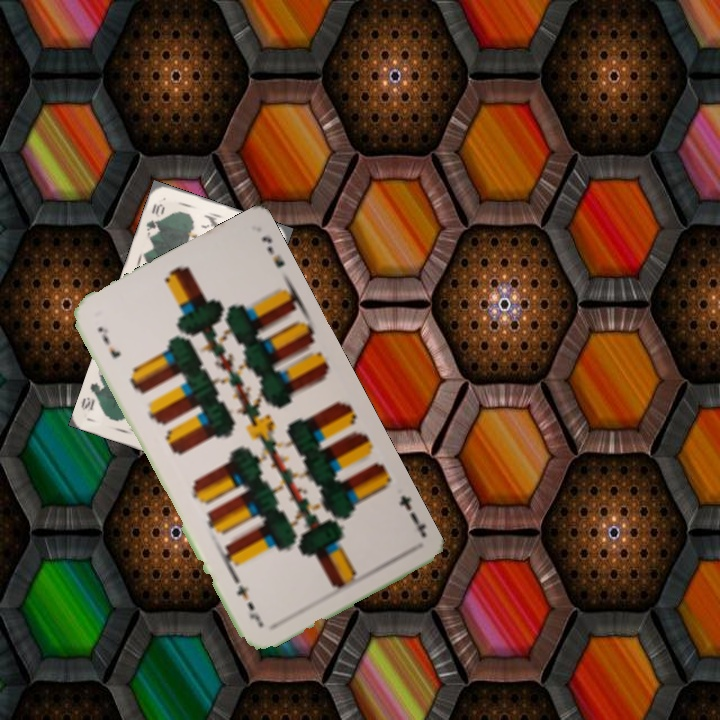E7: (395, 491, 429, 539), (93, 322, 123, 361)
G10: (142, 200, 168, 238)
